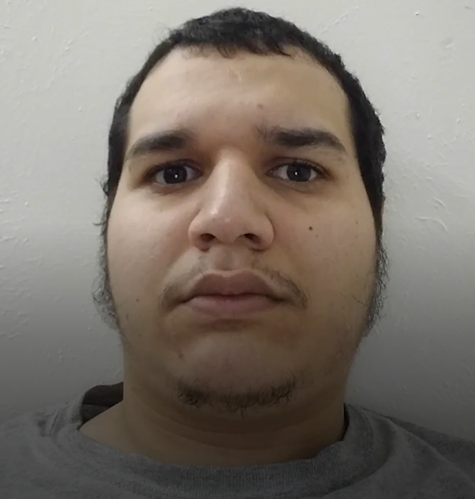Not Sleeping: (127, 128, 349, 205)
